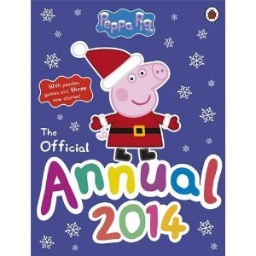Peppa: (84, 47, 185, 162)
